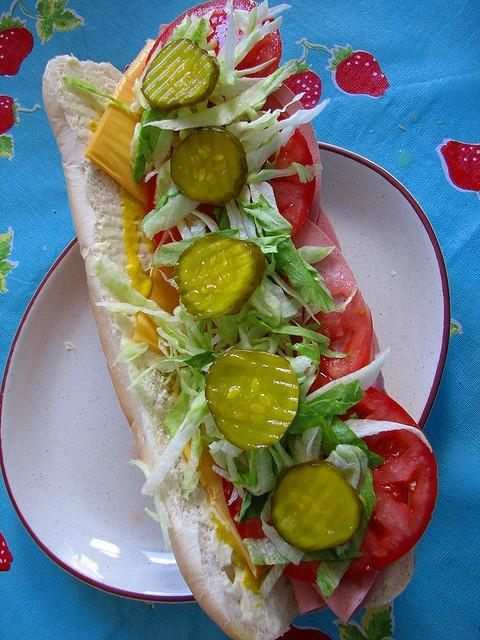lettuce: (144, 124, 296, 240), (143, 60, 298, 130), (142, 390, 224, 500), (316, 468, 378, 600), (243, 235, 337, 314), (93, 260, 172, 332), (210, 4, 266, 97), (304, 346, 390, 402), (244, 98, 330, 154), (150, 228, 240, 268), (61, 77, 142, 121), (242, 538, 362, 566), (96, 301, 200, 328), (306, 380, 366, 420), (237, 194, 293, 236), (161, 376, 196, 440), (324, 445, 368, 494), (244, 92, 306, 126), (126, 359, 190, 391), (225, 184, 257, 240), (179, 294, 209, 351), (260, 321, 330, 345), (263, 276, 298, 318), (138, 126, 173, 166), (247, 448, 275, 496), (293, 425, 323, 465), (254, 288, 283, 327), (156, 328, 196, 356), (182, 351, 221, 378), (210, 313, 240, 345), (112, 342, 149, 367), (250, 181, 278, 212), (296, 246, 336, 264), (153, 227, 174, 260), (208, 440, 244, 458), (250, 336, 278, 354), (246, 325, 268, 347), (237, 321, 253, 348), (180, 377, 199, 397), (180, 366, 192, 384), (304, 362, 316, 378), (213, 340, 228, 352), (206, 424, 216, 438), (239, 112, 250, 122)
strawberry: (328, 44, 390, 98), (1, 1, 34, 76), (283, 48, 322, 110), (440, 140, 480, 192), (0, 94, 42, 134), (275, 623, 334, 640), (0, 532, 13, 572)
tomato: (335, 387, 438, 580), (142, 1, 282, 78), (304, 274, 372, 398), (259, 108, 316, 240)
